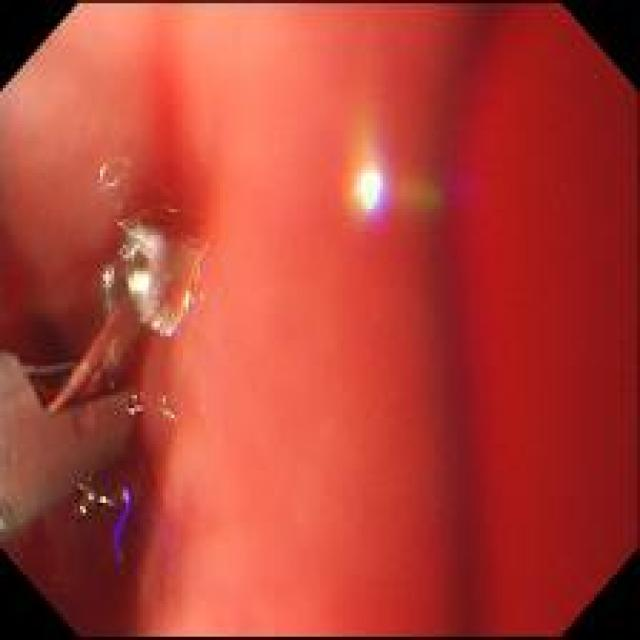color misalignment: (342, 5, 638, 631), (150, 253, 204, 337), (114, 491, 132, 553), (368, 172, 391, 220), (102, 266, 116, 292), (70, 499, 87, 518), (122, 405, 145, 415)
instrument: (1, 221, 178, 541)
specularity: (358, 173, 377, 206), (131, 274, 148, 291)
